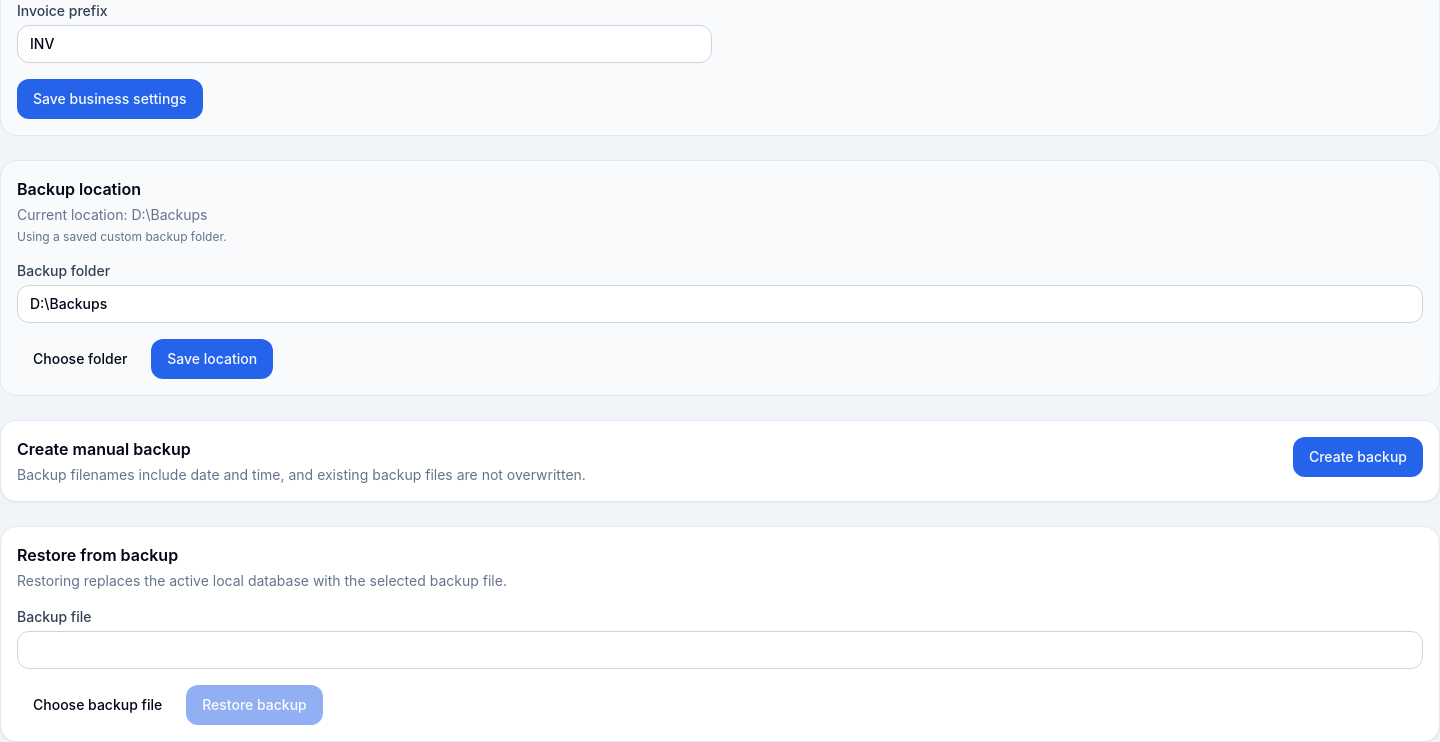
Test: SettingsScreen › chooses and restores a backup file
(page scrolled)
Check: the field showing "D:\\Backups" is shown, box [17,285,1423,323]
Click the button "Choose backup file".
click(98, 705)  # box [17,685,178,725]
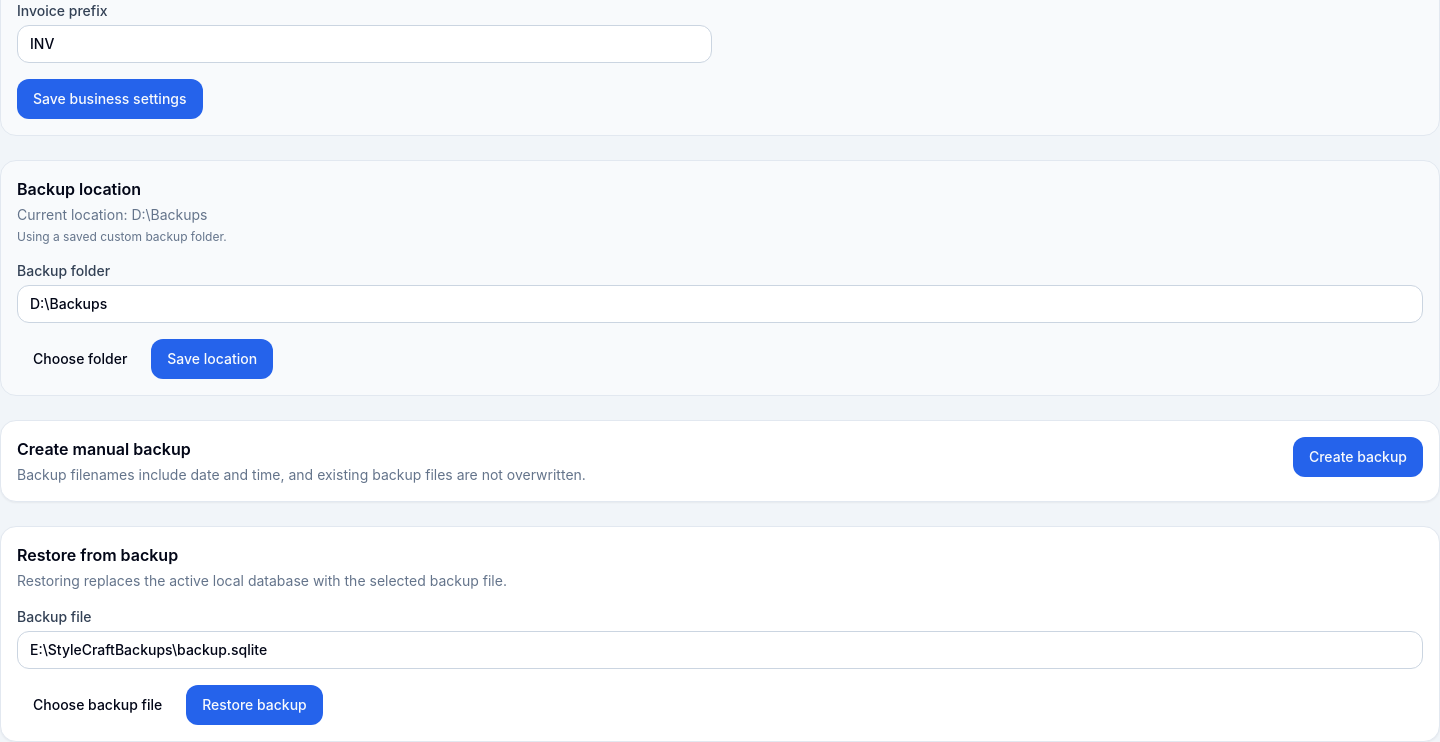
Check: the field showing "E:\\StyleCraftBackups\\backup.sqlite" is shown, box [17,631,1423,669]
Click the button "Restore backup".
click(254, 705)  # box [186,685,323,725]
(page scrolled)
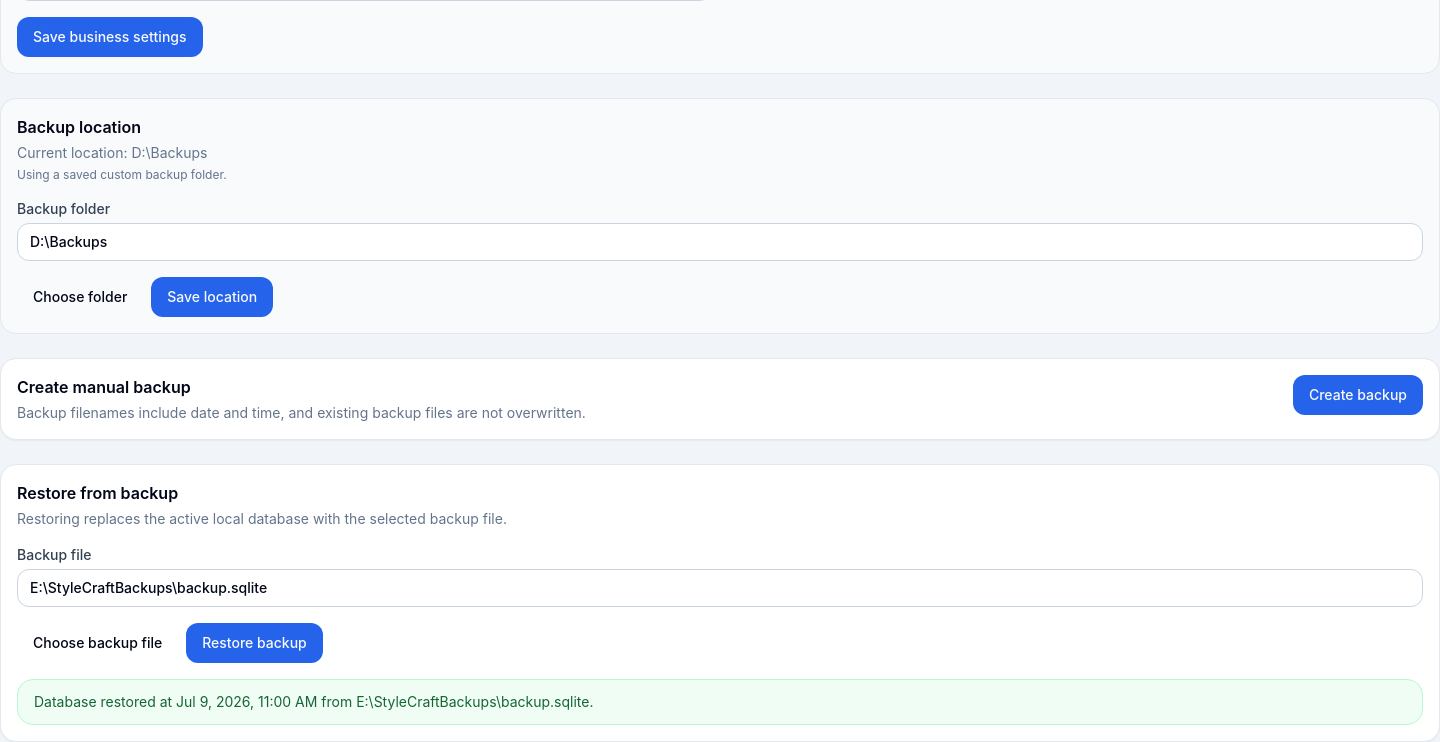
Check: the message shows "Database restored", box [34,693,176,710]
